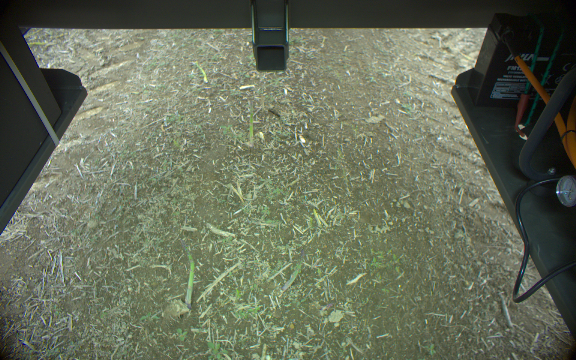aspa: (178, 240, 196, 310), (277, 248, 304, 293), (245, 95, 256, 144), (193, 61, 209, 84)
